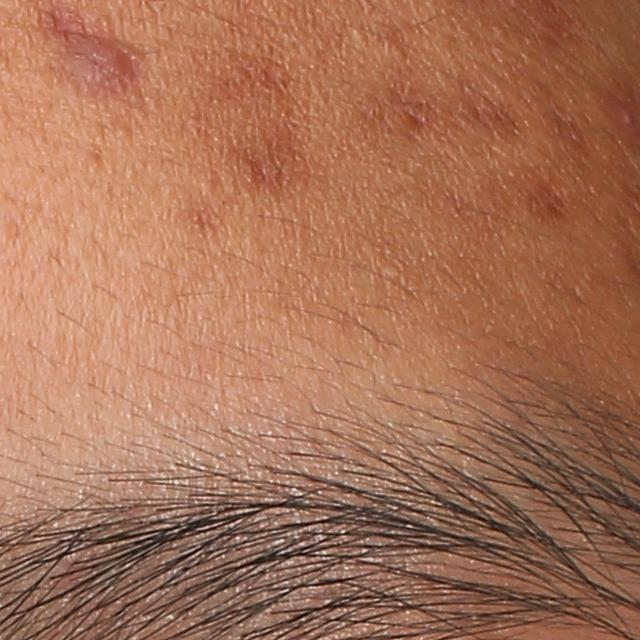papule: (66, 37, 136, 89)
